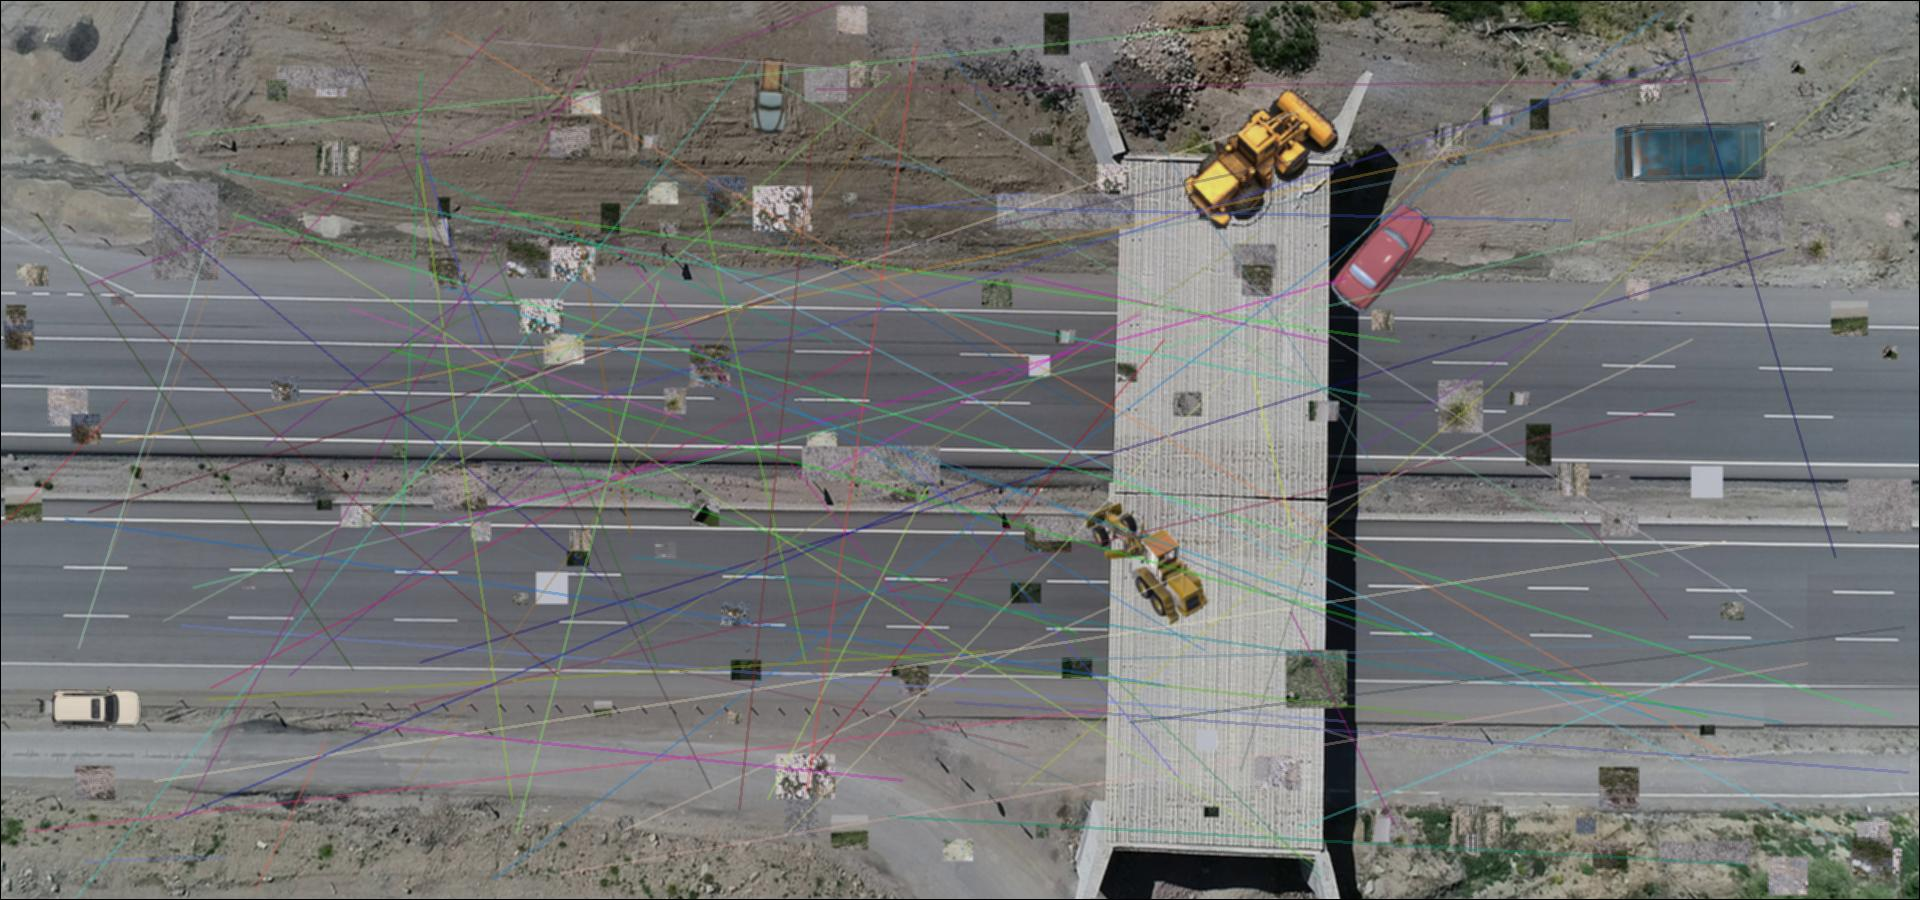arac: (1180, 84, 1353, 233), (1080, 500, 1209, 627), (1330, 201, 1436, 313), (1611, 120, 1769, 186), (49, 686, 144, 732), (752, 58, 789, 133)
